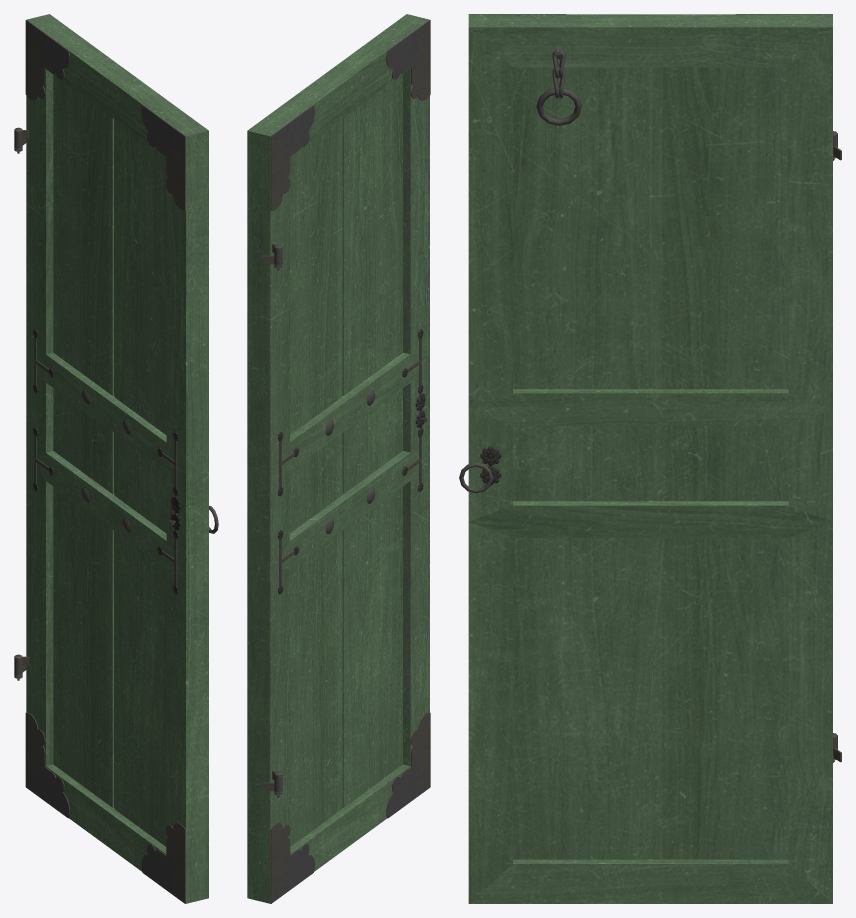
The model's file is SM_Door05B.fbx.
3 renders of one model, left to right at view 1: azimuth 30°, elevation 25°; view 2: azimuth 150°, elevation 25°; view 3: azimuth 270°, elevation 25°, orthographic. The views are drawn at different scales.
Parts seen in each view (by area): view 1: SM_Door05B; view 2: SM_Door05B; view 3: SM_Door05B.
Boxes of the visible parts, <box> form: SM_Door05B: <box>14,14,218,903</box>; SM_Door05B: <box>247,14,430,903</box>; SM_Door05B: <box>459,14,841,903</box>.
Size of the model in its own units: 11.72 by 67.11 by 170.
